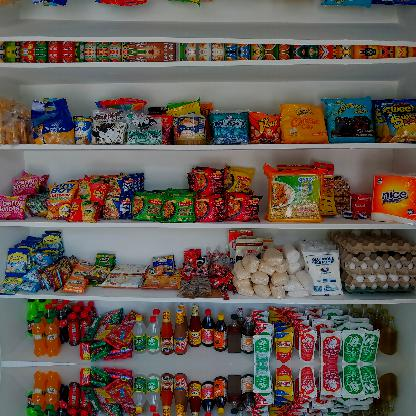Lady-s-Choice: (176, 114, 206, 144)
